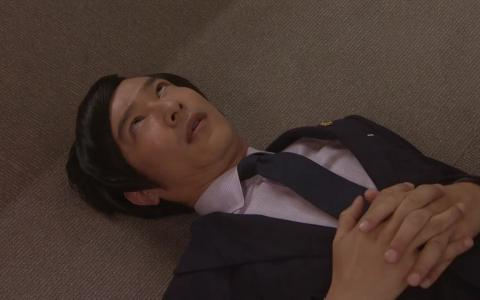fall: (58, 50, 475, 300)
